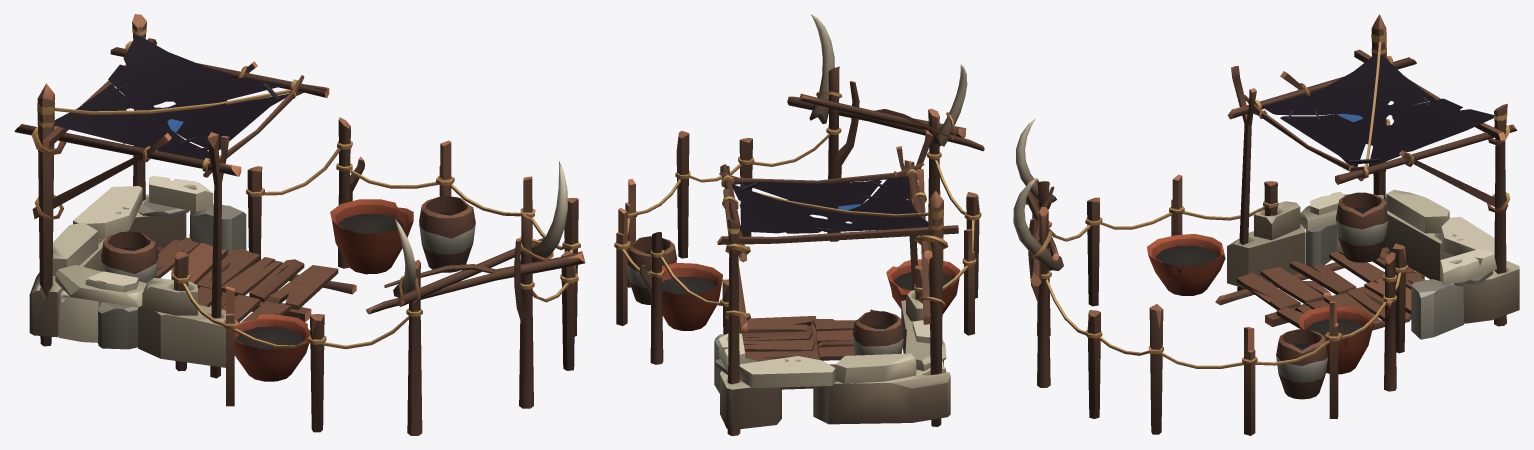
File: Camp_1B.fbx
3 renders of one model, left to right at view 1: azimuth 30°, elevation 25°; view 2: azimuth 150°, elevation 25°; view 3: azimuth 270°, elevation 25°, orthographic. The views are drawn at different scales.
Parts seen in each view (by area): view 1: Camp_1B; view 2: Camp_1B; view 3: Camp_1B.
Part boxes in pixels (box(x1,y1,x2,y2)): Camp_1B: box(14, 14, 585, 435); Camp_1B: box(614, 14, 984, 435); Camp_1B: box(1013, 14, 1519, 435).
Bounding box in the file's own units: 9.94 × 5.73 × 11.
